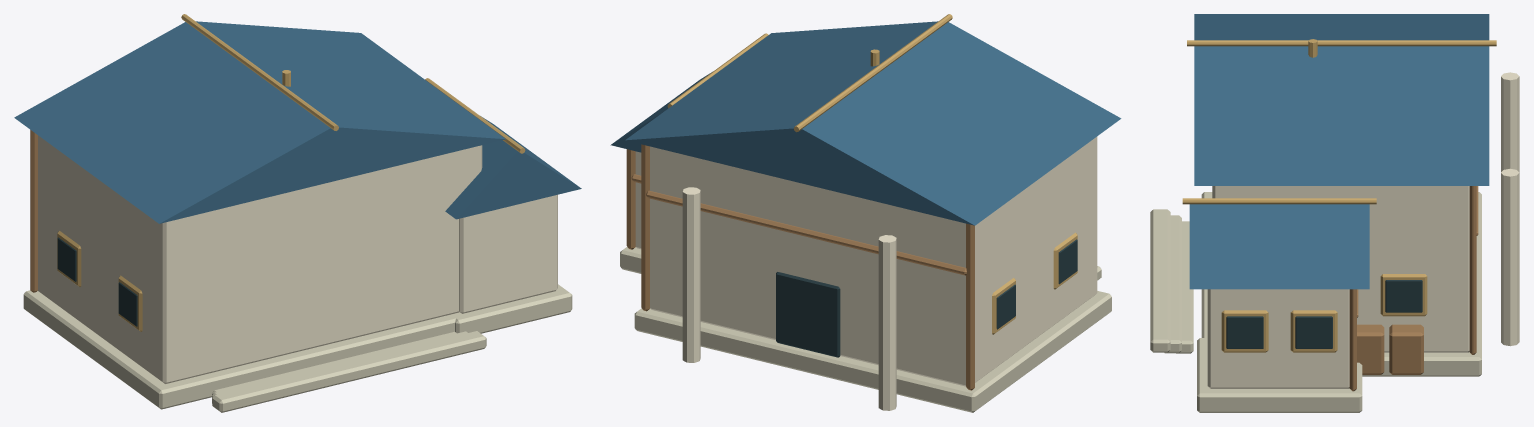
The model's file is level_24.glb.
3 views of the same model, side by side, from view 1: azimuth 30°, elevation 25°; view 2: azimuth 150°, elevation 25°; view 3: azimuth 270°, elevation 25° (orthographic).
Parts seen in each view (by area): view 1: warehouse — level 24; view 2: warehouse — level 24; view 3: warehouse — level 24.
Part boxes in pixels (box(x1,y1,x2,y2)): warehouse — level 24: box(14, 14, 581, 412); warehouse — level 24: box(610, 14, 1121, 412); warehouse — level 24: box(1150, 14, 1519, 412).
Bounding box in the file's own units: 6.85 × 3.97 × 5.13.
